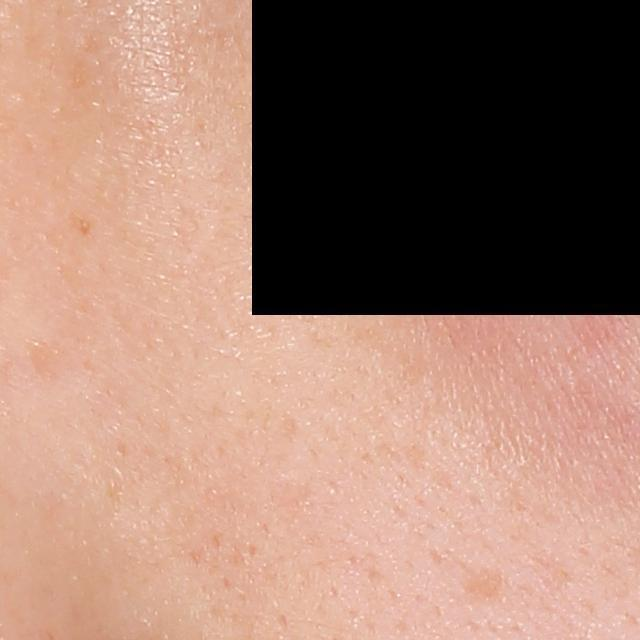melasma: (23, 336, 68, 378), (453, 567, 505, 599), (67, 213, 98, 240)
